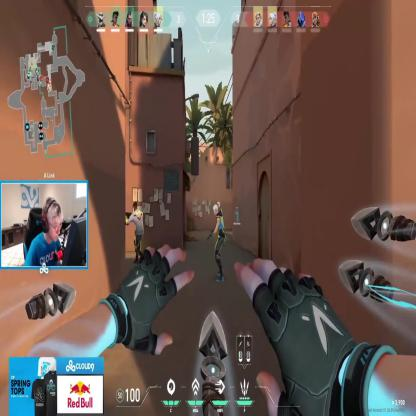enemy: (210, 201, 226, 282), (125, 202, 144, 264)
enemy_head: (213, 203, 220, 218), (132, 202, 138, 213)
